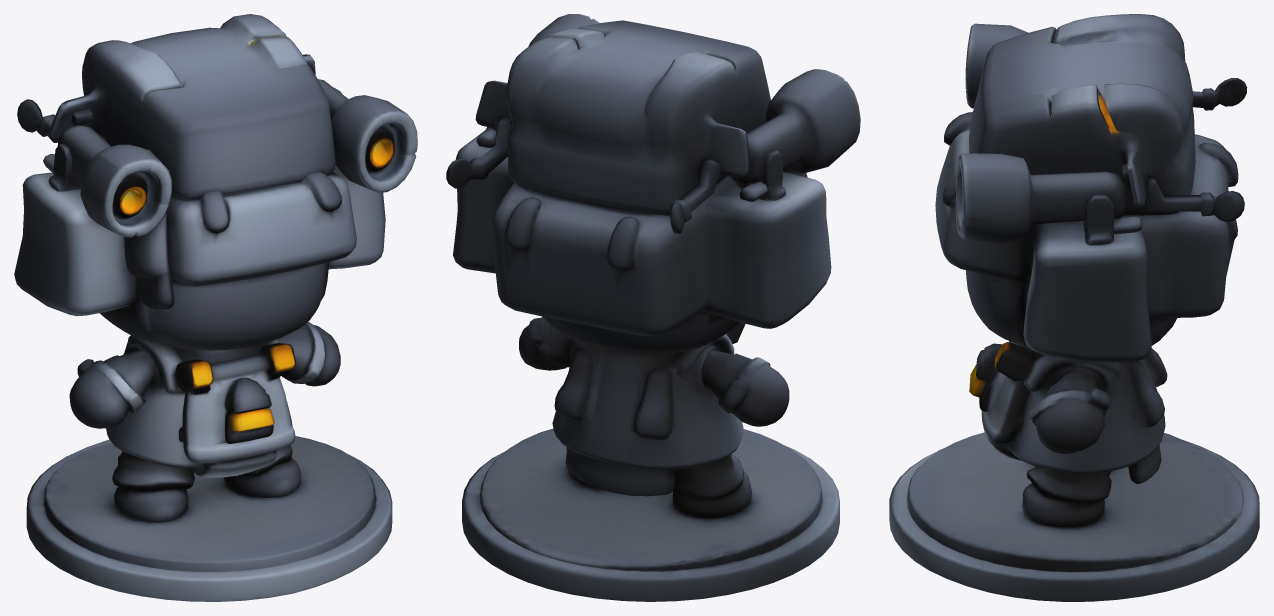
The model's file is malay-rook.glb.
3 views of the same model, side by side, from view 1: azimuth 30°, elevation 25°; view 2: azimuth 150°, elevation 25°; view 3: azimuth 270°, elevation 25° (orthographic). The views are drawn at different scales.
Visible parts, largest first — view 1: tripo_75bc433f_e91e_4c20_8fb7_58f1d9906703; view 2: tripo_75bc433f_e91e_4c20_8fb7_58f1d9906703; view 3: tripo_75bc433f_e91e_4c20_8fb7_58f1d9906703.
Part boxes in pixels (x1=…): tripo_75bc433f_e91e_4c20_8fb7_58f1d9906703: x1=14, y1=14, x2=417, y2=601; tripo_75bc433f_e91e_4c20_8fb7_58f1d9906703: x1=446, y1=14, x2=860, y2=601; tripo_75bc433f_e91e_4c20_8fb7_58f1d9906703: x1=889, y1=14, x2=1259, y2=601.
Size of the model in its own units: 0.7212 by 0.9995 by 0.7046.
1 material, 1 textured.
